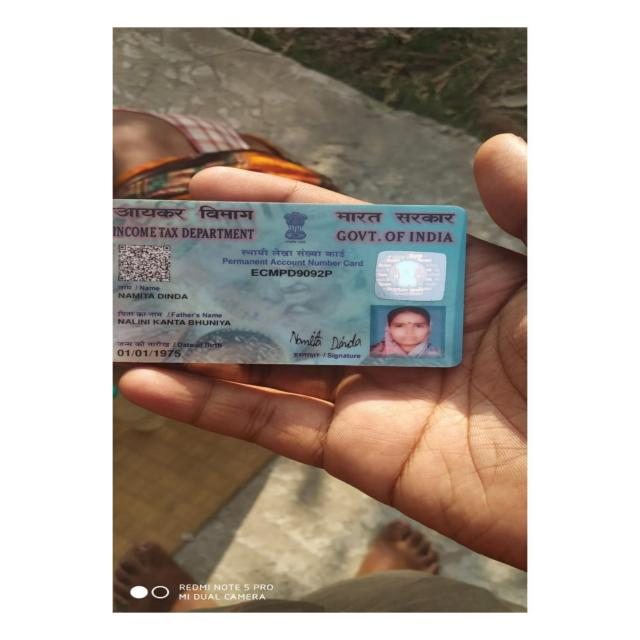pan_card: (112, 204, 461, 366)
